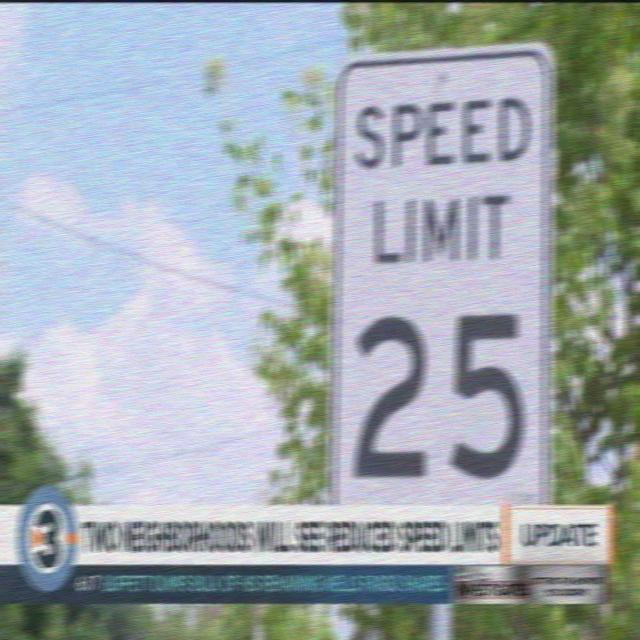speedLimit25: (327, 42, 555, 506)
